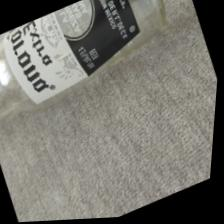glass: (0, 0, 137, 102)
